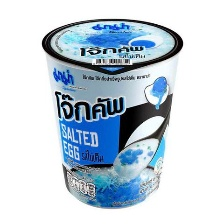paper_cup: (37, 12, 188, 212)
